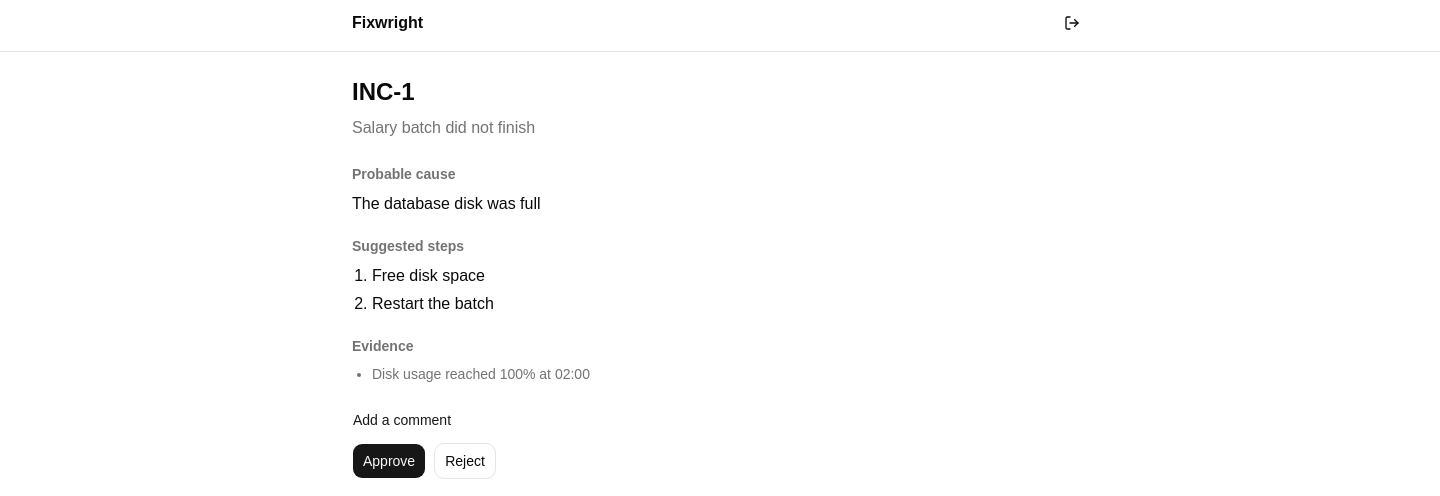
Test: already decided elsewhere shows the message
The width and height of the screenshot is (1440, 496).
Click the button "Reject": (465, 461) [434,443,496,479]
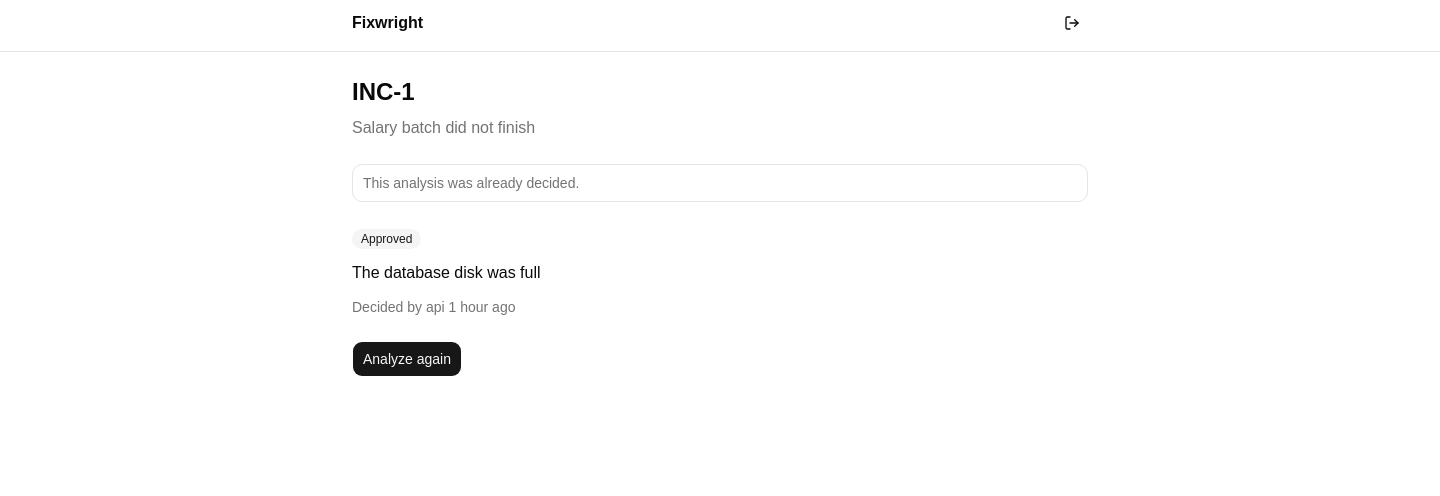
expect the text "This analysis was already decided." is shown: met, box [363,175,579,191]
expect the text "Decided by api 1 hour ago" is shown: met, box [352,299,516,315]
